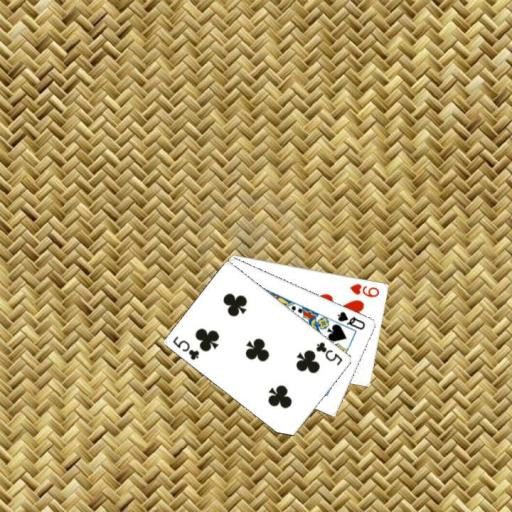5C: (313, 338, 344, 367), (170, 333, 201, 361)
9H: (347, 280, 381, 299)
QS: (334, 308, 367, 331)
